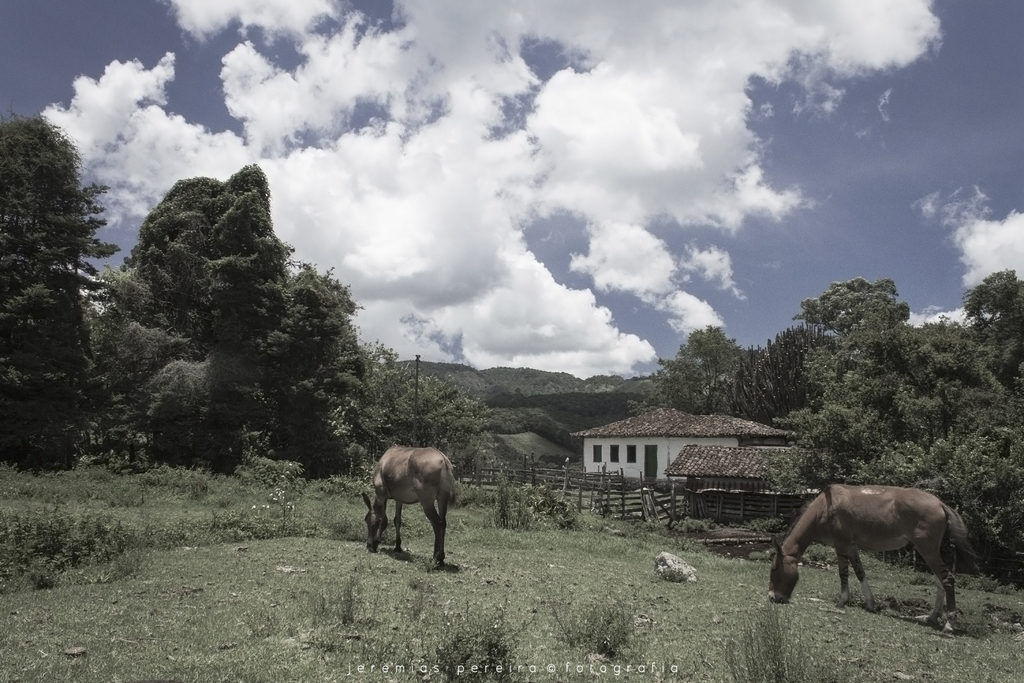horse: (764, 484, 961, 629), (361, 444, 461, 571)
